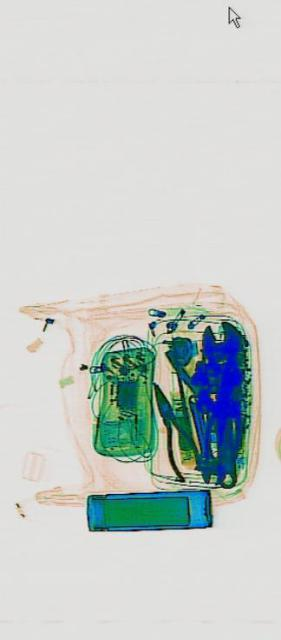Pliers: (143, 366, 199, 490)
Wrench: (199, 318, 247, 492)
